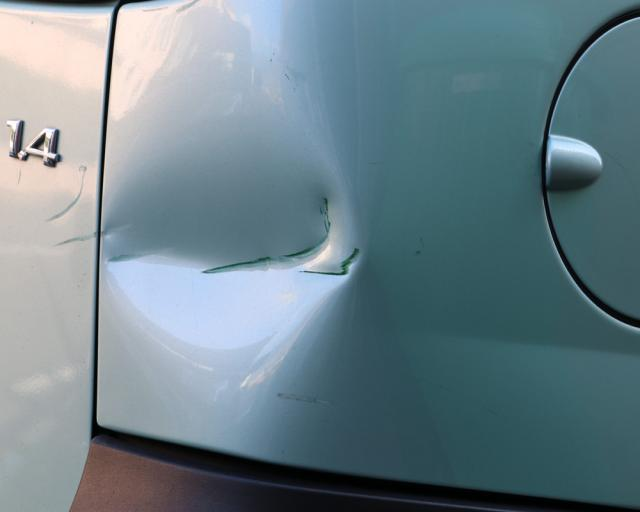dent: (102, 118, 360, 356)
